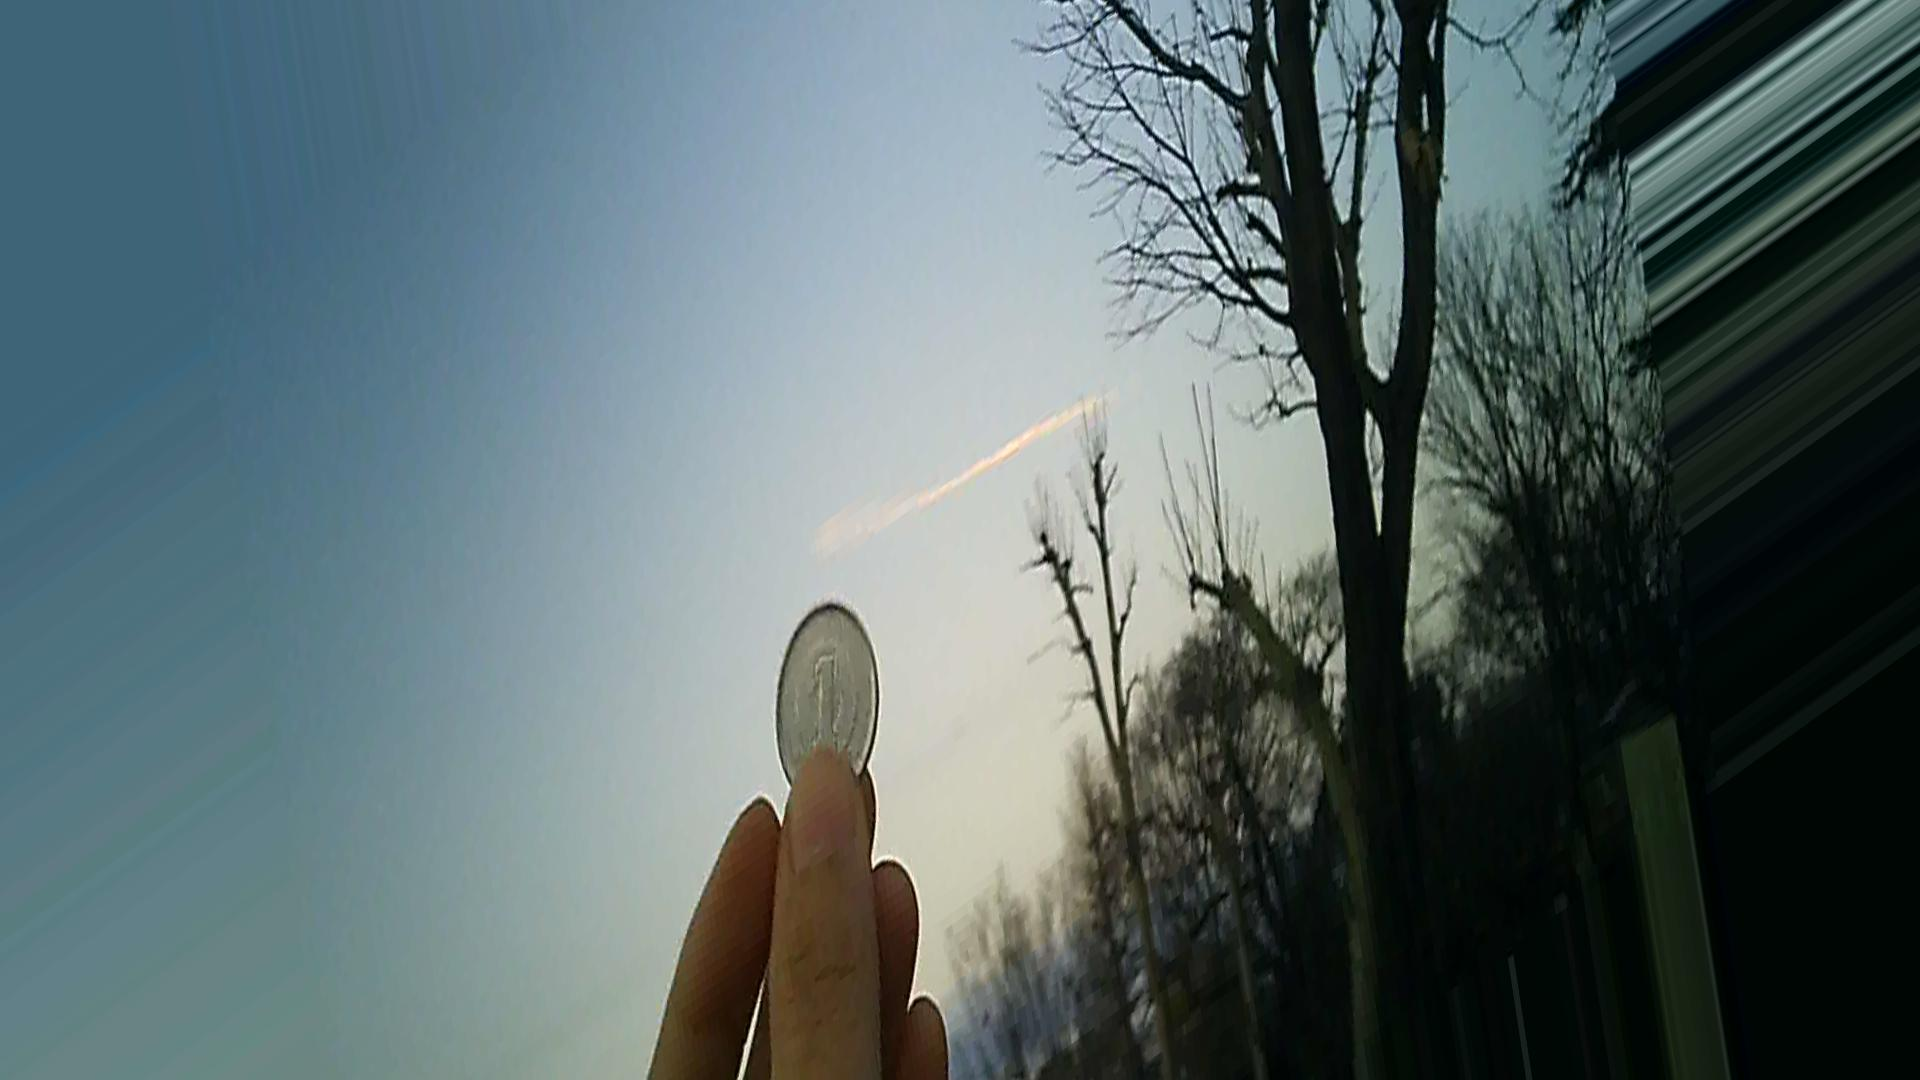1 Yen: (765, 607, 893, 804)
